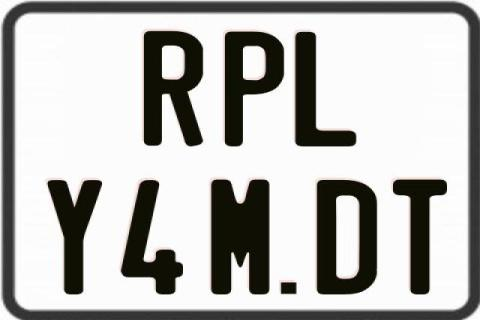0: (118, 180, 182, 299)
D: (314, 179, 375, 295)
L: (296, 31, 361, 148)
M: (210, 179, 272, 299)
P: (222, 29, 284, 148)
R: (141, 31, 202, 147)
T: (390, 180, 448, 296)
Y: (45, 178, 104, 296)
